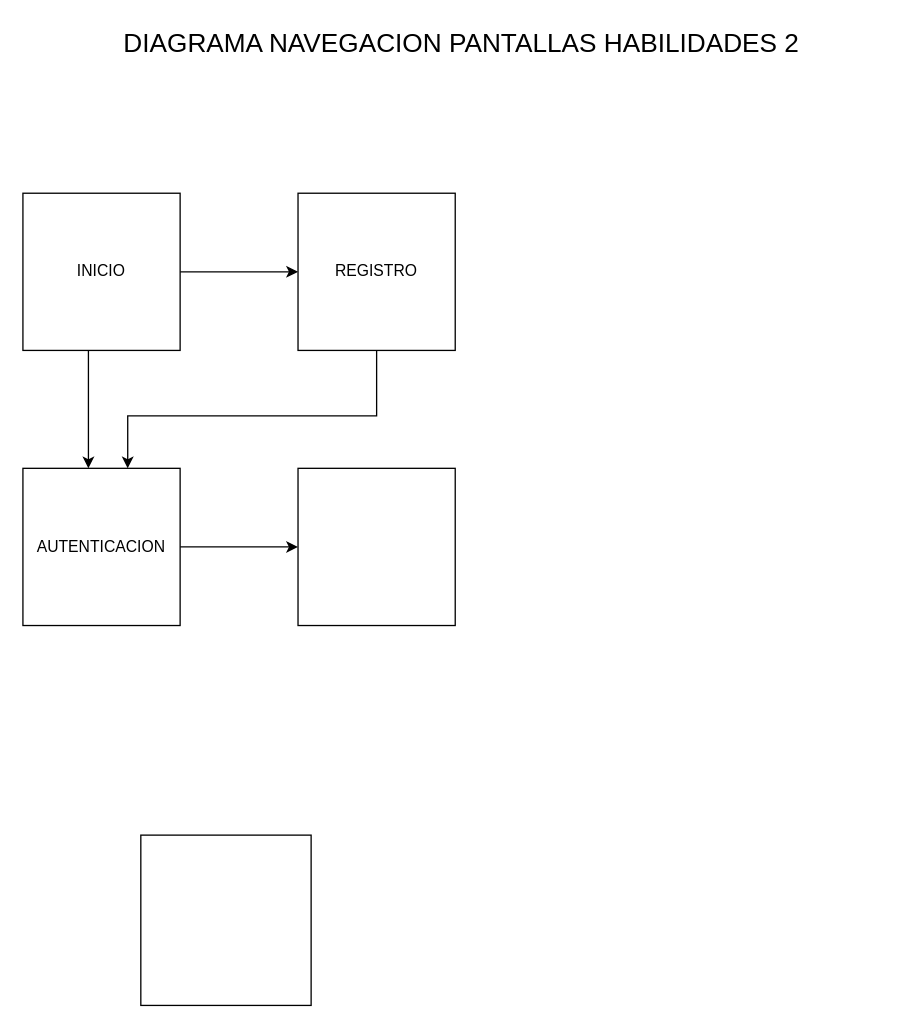
The diagram is 910 pixels wide and 1028 high, and some of its shapes have lost their labels. The shapes that lost their labels are listed below. From the top down, each one's box as (x1, y1, x2, y2) in pixels, then its label:
(297, 467, 455, 626): BUSQUEDA OFERTAS ( Y QUIEN LAS OFRECE )
(140, 834, 311, 1005): PERFIL (AC HABILIDADES OFERTADAS Y DEMANDADAS)
